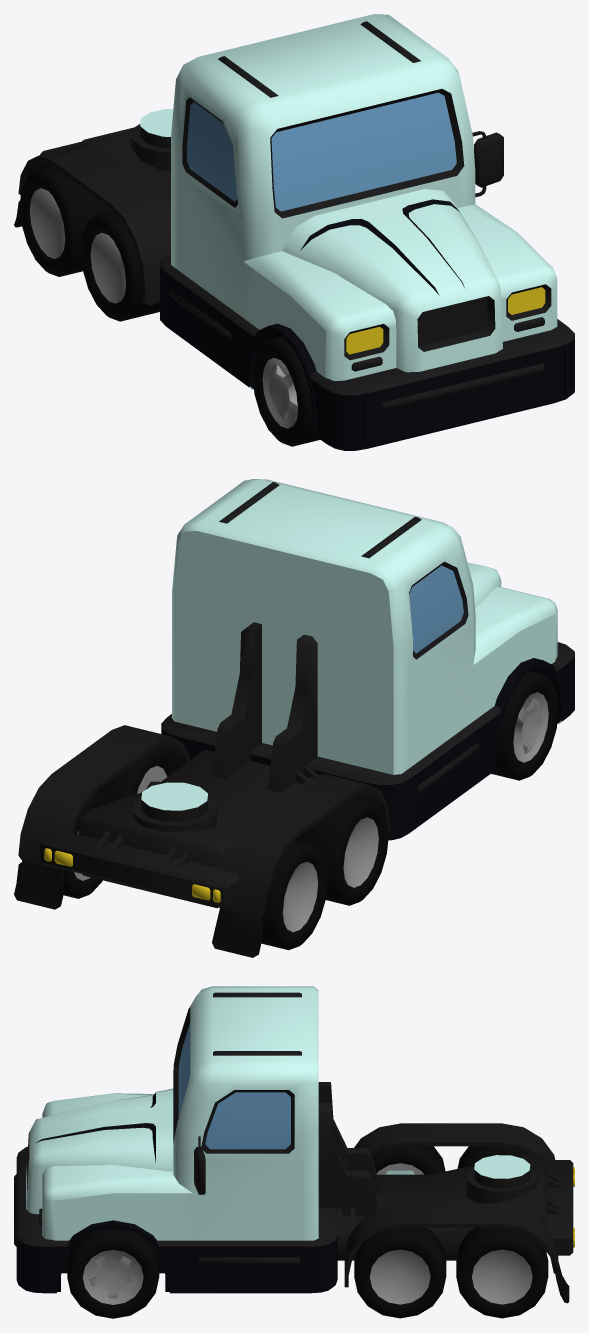
The model's file is Car_E.fbx.
The picture shows the model from 3 angles, top to bottom: view 1: azimuth 30°, elevation 25°; view 2: azimuth 150°, elevation 25°; view 3: azimuth 270°, elevation 25°; orthographic projection. The views are drawn at different scales.
Visible parts, largest first — view 1: Car_E, Car_E_Wheel_R_R, Car_E_Wheel_M_R, Car_E_Wheel_F_R; view 2: Car_E, Car_E_Wheel_M_R, Car_E_Wheel_R_R, Car_E_Wheel_F_R, Car_E_Wheel_M_L, Car_E_Wheel_R_L; view 3: Car_E, Car_E_Wheel_R_L, Car_E_Wheel_M_L, Car_E_Wheel_F_L, Car_E_Wheel_M_R, Car_E_Wheel_R_R.
Boxes of the visible parts, <box> form: Car_E: <box>14,14,574,450</box>; Car_E_Wheel_R_R: <box>19,166,113,276</box>; Car_E_Wheel_M_R: <box>80,211,159,321</box>; Car_E_Wheel_F_R: <box>252,336,320,446</box>; Car_E: <box>14,479,574,957</box>; Car_E_Wheel_M_R: <box>295,795,388,905</box>; Car_E_Wheel_R_R: <box>260,839,328,950</box>; Car_E_Wheel_F_R: <box>491,671,558,780</box>; Car_E_Wheel_M_L: <box>97,746,176,801</box>; Car_E_Wheel_R_L: <box>22,791,110,898</box>; Car_E: <box>14,986,574,1303</box>; Car_E_Wheel_R_L: <box>456,1227,548,1318</box>; Car_E_Wheel_M_L: <box>354,1227,446,1318</box>; Car_E_Wheel_F_L: <box>67,1228,159,1318</box>; Car_E_Wheel_M_R: <box>372,1146,445,1174</box>; Car_E_Wheel_R_R: <box>457,1146,529,1168</box>.
Size of the model in its own units: 59.22 by 59.19 by 123.
